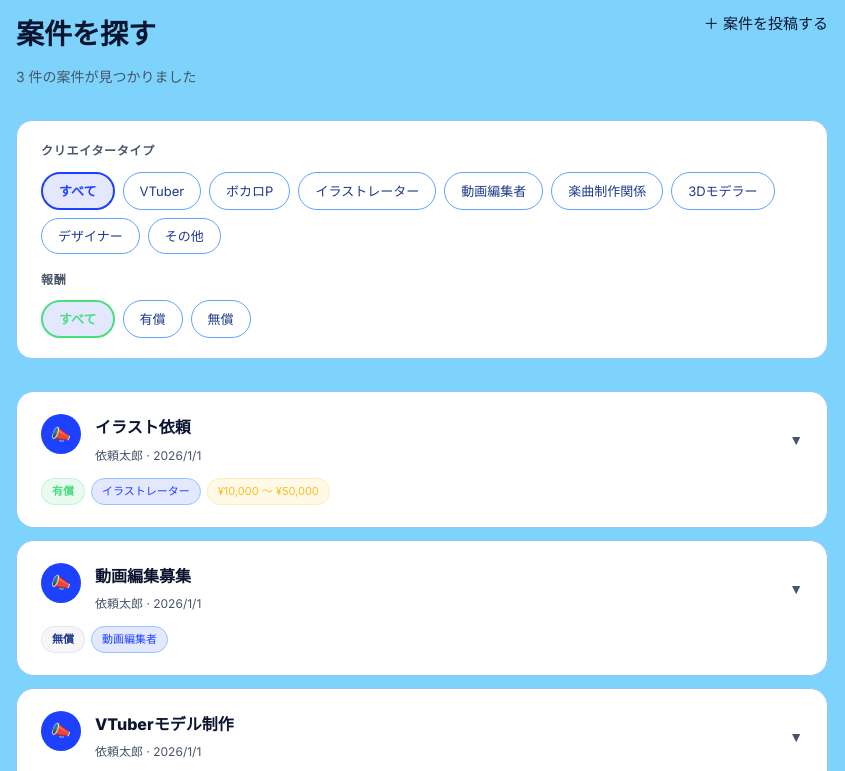
Test case: JobListingsClient › [happy] 報酬フィルター「有償」で有償案件だけ表示される
The image size is (845, 771).
Click the button "有償" at x=153, y=319, box [123,300,183,338]
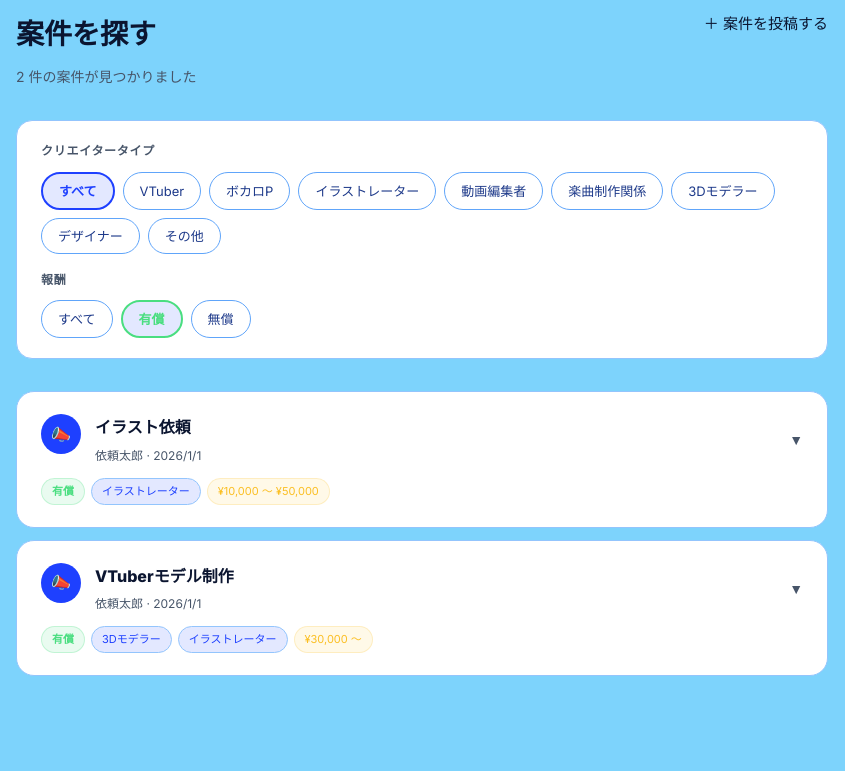
Expected: the text "イラスト依頼" is shown, [95,414,191,442]
Result: the text "動画編集募集" is gone
